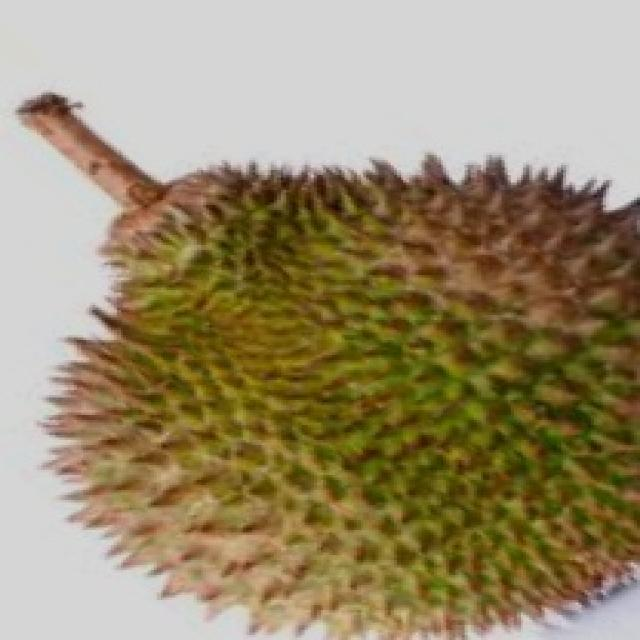fruit: (6, 280, 394, 640), (307, 282, 640, 639)
